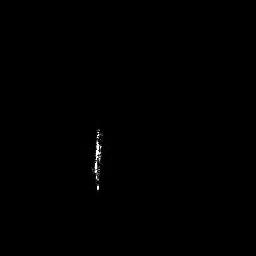ship: (91, 126, 106, 196)
